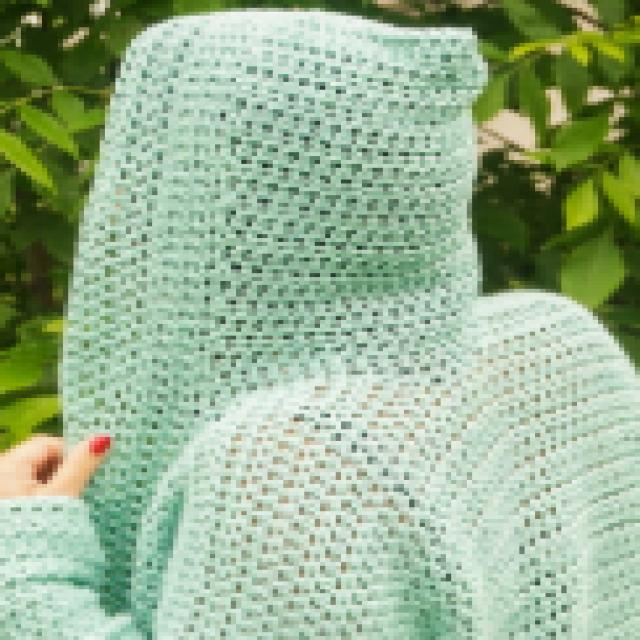4_capucha: (61, 11, 479, 380)
